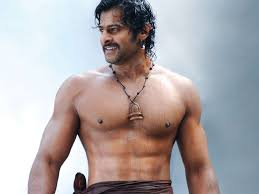Indian_Male: (98, 5, 142, 75)
